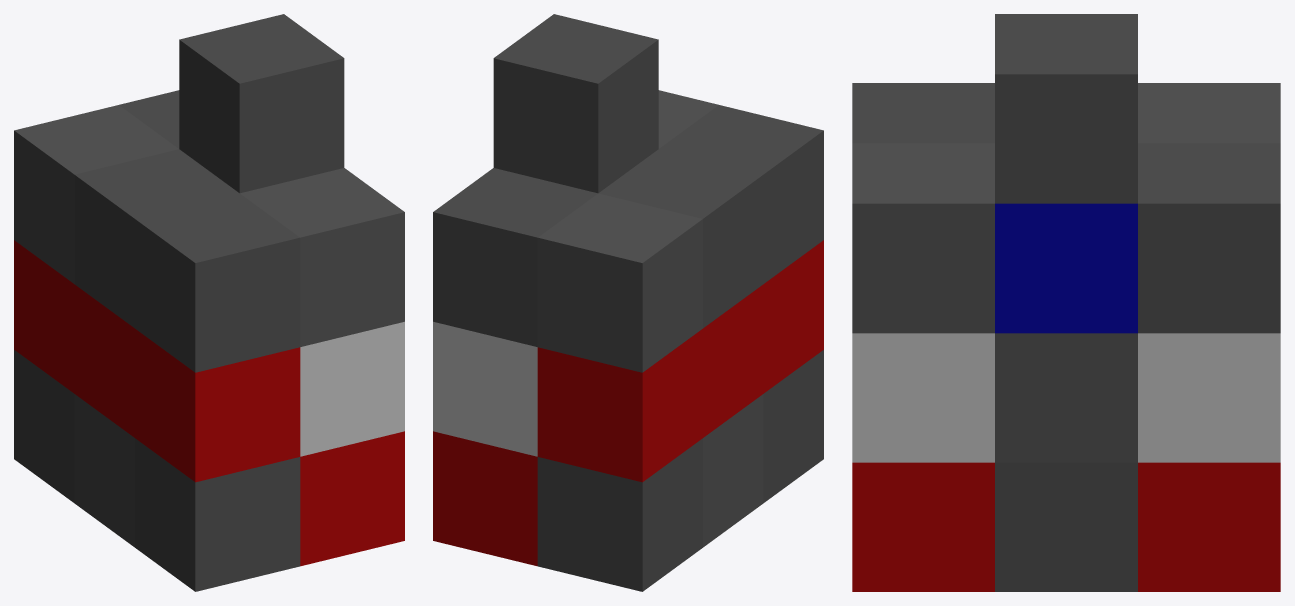
Rendered from Pez Pequeñisimo-2.obj.
3 renders of one model, left to right at view 1: azimuth 30°, elevation 25°; view 2: azimuth 150°, elevation 25°; view 3: azimuth 270°, elevation 25°, orthographic. The views are drawn at different scales.
Bounding box in the file's own units: 0.2 × 0.4 × 0.3.
1 material, 1 textured.
